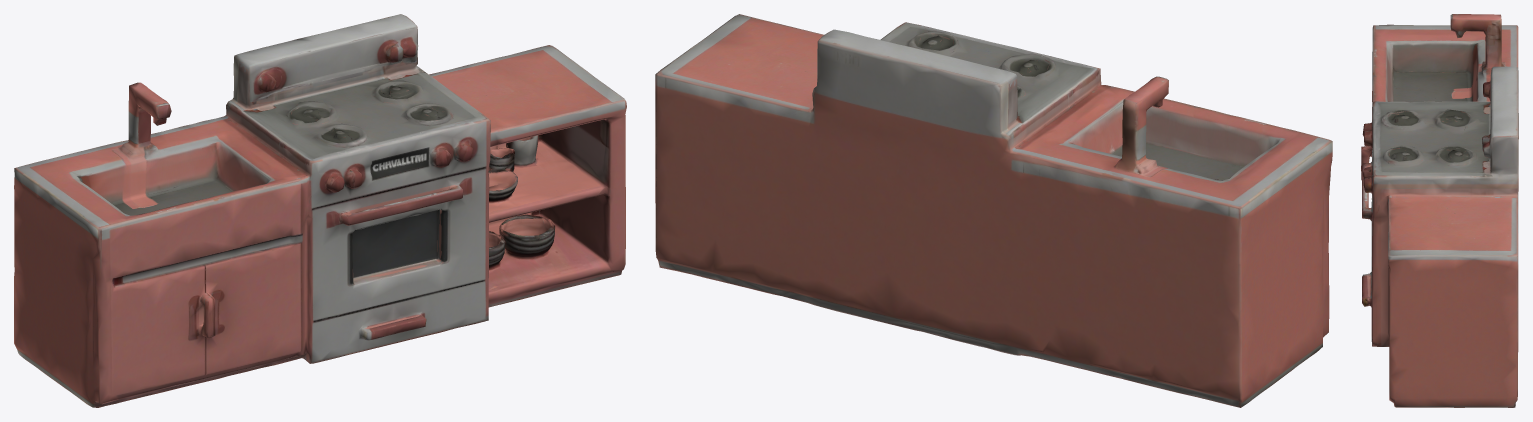
File: Meshy_AI_Fogão_cabana_0131035653_texture.glb
The picture shows the model from 3 angles, left to right: view 1: azimuth 30°, elevation 25°; view 2: azimuth 150°, elevation 25°; view 3: azimuth 270°, elevation 25°; orthographic projection. The views are drawn at different scales.
Bounding box in the file's own units: 2.01 × 0.9 × 0.5962.
Materials: 1 (1 with a texture image).
